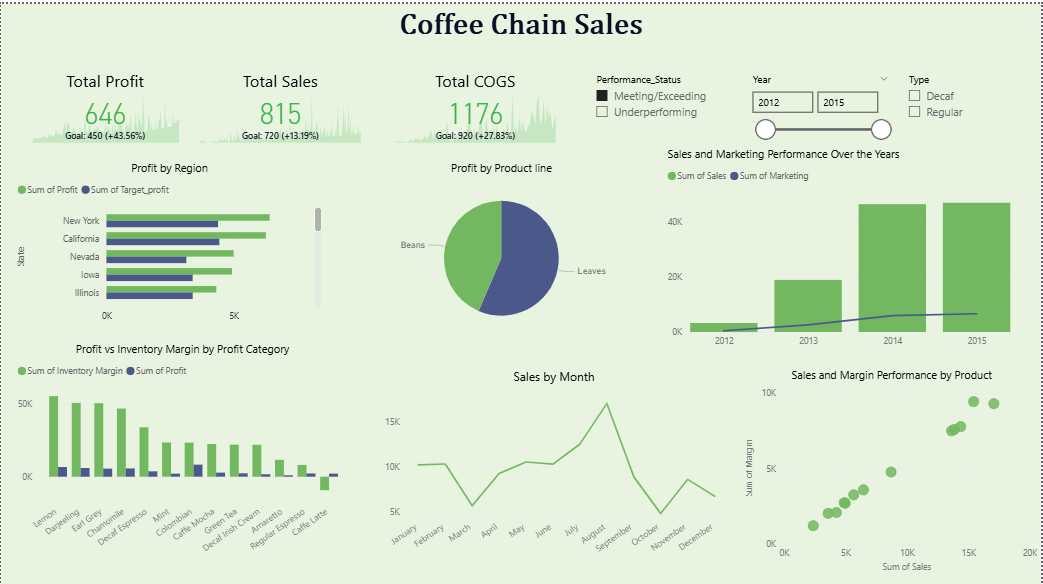

What the dashboard file says about the page in this screenshot:
{"tool":"powerbi","page":{"name":"Page 1","canvas":[1280,720],"ordinal":0},"visuals":[{"type":"textbox","box":[0,0,1280,80],"z":0},{"type":"clusteredBarChart","title":"Profit by Region","fields":{"Category":["cleaned_sales.State"],"Y":["Sum(cleaned_sales.Profit)","Sum(cleaned_sales.Target_profit)"]},"box":[16,192,384,208],"z":1000},{"type":"slicer","fields":{"Values":["cleaned_sales.Performance_Status"]},"box":[720,80,192,96],"z":2000},{"type":"scatterChart","title":"Sales and Margin Performance by Product","fields":{"X":["Sum(cleaned_sales.Sales)"],"Y":["Sum(cleaned_sales.Margin)"],"Category":["cleaned_sales.Product"]},"box":[912,448,368,256],"z":3000},{"type":"lineClusteredColumnComboChart","title":"Sales and Marketing Performance Over the Years","fields":{"Y":["Sum(cleaned_sales.Sales)"],"Y2":["Sum(cleaned_sales.Marketing)"],"Category":["cleaned_sales.Year"]},"box":[816,176,432,256],"z":4000},{"type":"slicer","fields":{"Values":["cleaned_sales.Year"]},"box":[912,80,192,96],"z":5000},{"type":"slicer","fields":{"Values":["cleaned_sales.Type"]},"box":[1104,80,160,96],"z":6000},{"type":"clusteredColumnChart","title":"Profit vs Inventory Margin by Profit Category","fields":{"Y":["Sum(cleaned_sales.Inventory Margin)","Sum(cleaned_sales.Profit)"],"Category":["cleaned_sales.Product"]},"box":[16,416,416,272],"z":7000},{"type":"pieChart","title":"Profit by Product line","fields":{"Y":["Sum(cleaned_sales.Profit)"],"Category":["cleaned_sales.Product_line"]},"box":[480,192,272,224],"z":8000},{"type":"kpi","title":"Total Profit","fields":{"Indicator":["Sum(cleaned_sales.Profit)"],"TrendLine":["cleaned_sales.Profit"],"Goal":["Sum(cleaned_sales.Target_profit)"]},"box":[32,80,192,96],"z":9000},{"type":"kpi","title":"Total Sales","fields":{"Indicator":["Sum(cleaned_sales.Sales)"],"Goal":["Sum(cleaned_sales.Target_sales )"],"TrendLine":["cleaned_sales.Sales"]},"box":[240,80,208,96],"z":10000},{"type":"kpi","title":"Total COGS","fields":{"Indicator":["Sum(cleaned_sales.Cogs)"],"Goal":["Sum(cleaned_sales.Target_cogs)"],"TrendLine":["cleaned_sales.Cogs"]},"box":[480,80,208,96],"z":11000},{"type":"lineChart","title":"Sales by Month","fields":{"Category":["cleaned_sales.Date.Variation.Date Hierarchy.Month"],"Y":["Sum(cleaned_sales.Sales)"]},"box":[464,448,432,240],"z":12000}]}

Visuals, with their boxes in screenshot pixels (x1, y1, x2, y2), scaled from the page's 1280x720 canvas onto the 1043x584 screenshot:
textbox: <box>0,0,1042,65</box>
"Profit by Region" clusteredBarChart: <box>13,156,326,324</box>
slicer - cleaned_sales.Performance_Status: <box>587,65,743,143</box>
"Sales and Margin Performance by Product" scatterChart: <box>743,363,1042,571</box>
"Sales and Marketing Performance Over the Years" lineClusteredColumnComboChart: <box>665,143,1017,350</box>
slicer - cleaned_sales.Year: <box>743,65,900,143</box>
slicer - cleaned_sales.Type: <box>900,65,1030,143</box>
"Profit vs Inventory Margin by Profit Category" clusteredColumnChart: <box>13,337,352,558</box>
"Profit by Product line" pieChart: <box>391,156,613,337</box>
"Total Profit" kpi: <box>26,65,183,143</box>
"Total Sales" kpi: <box>196,65,365,143</box>
"Total COGS" kpi: <box>391,65,561,143</box>
"Sales by Month" lineChart: <box>378,363,730,558</box>
